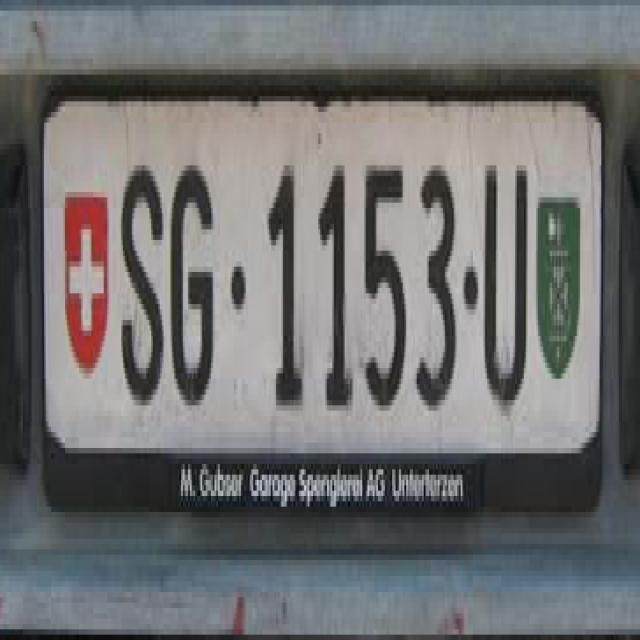Autre: (49, 104, 598, 442)
